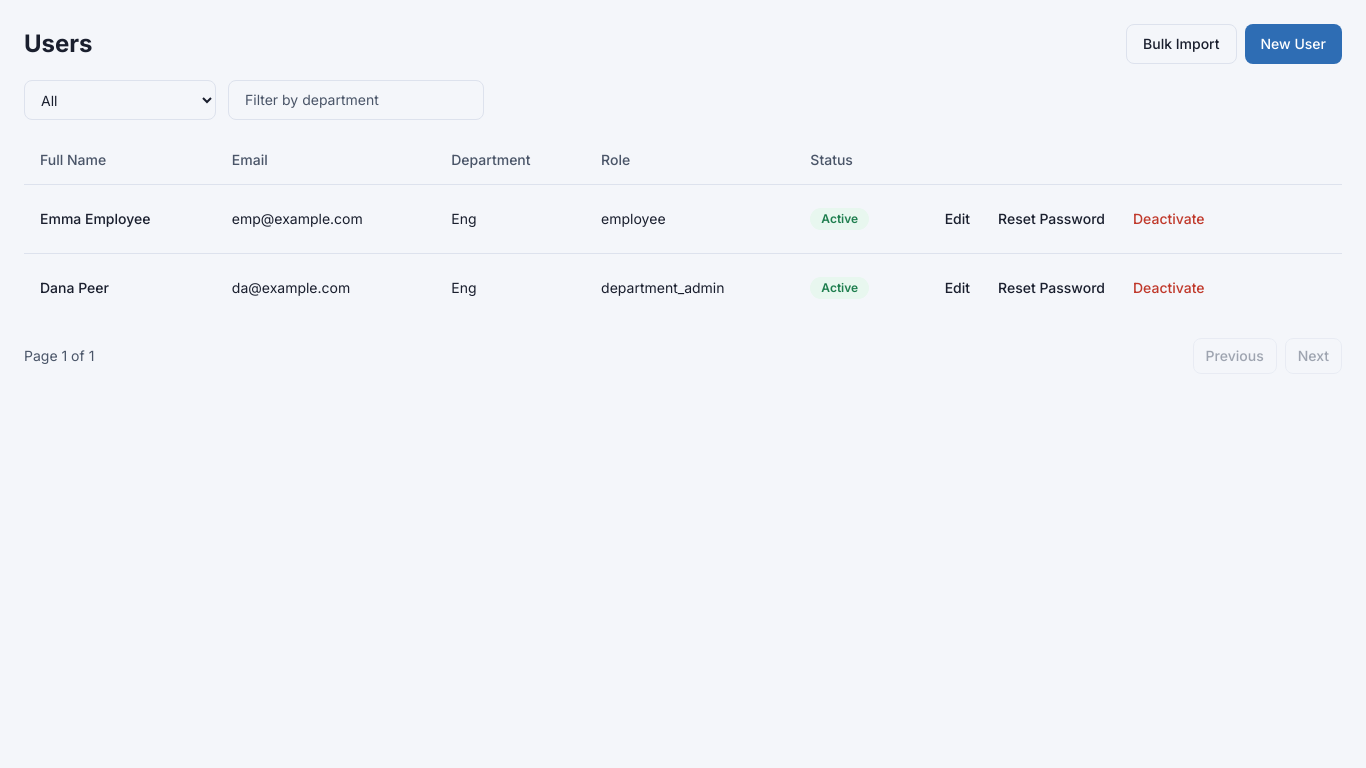
Test case: UsersListPage role dropdown (department_admin) › edit drawer for a peer department_admin shows the role read-only
Expected: the text "Dana Peer" is shown, [24,253,216,322]
Click the button "Edit" in the row of "Dana Peer" at [957, 288], box [933,270,982,306]
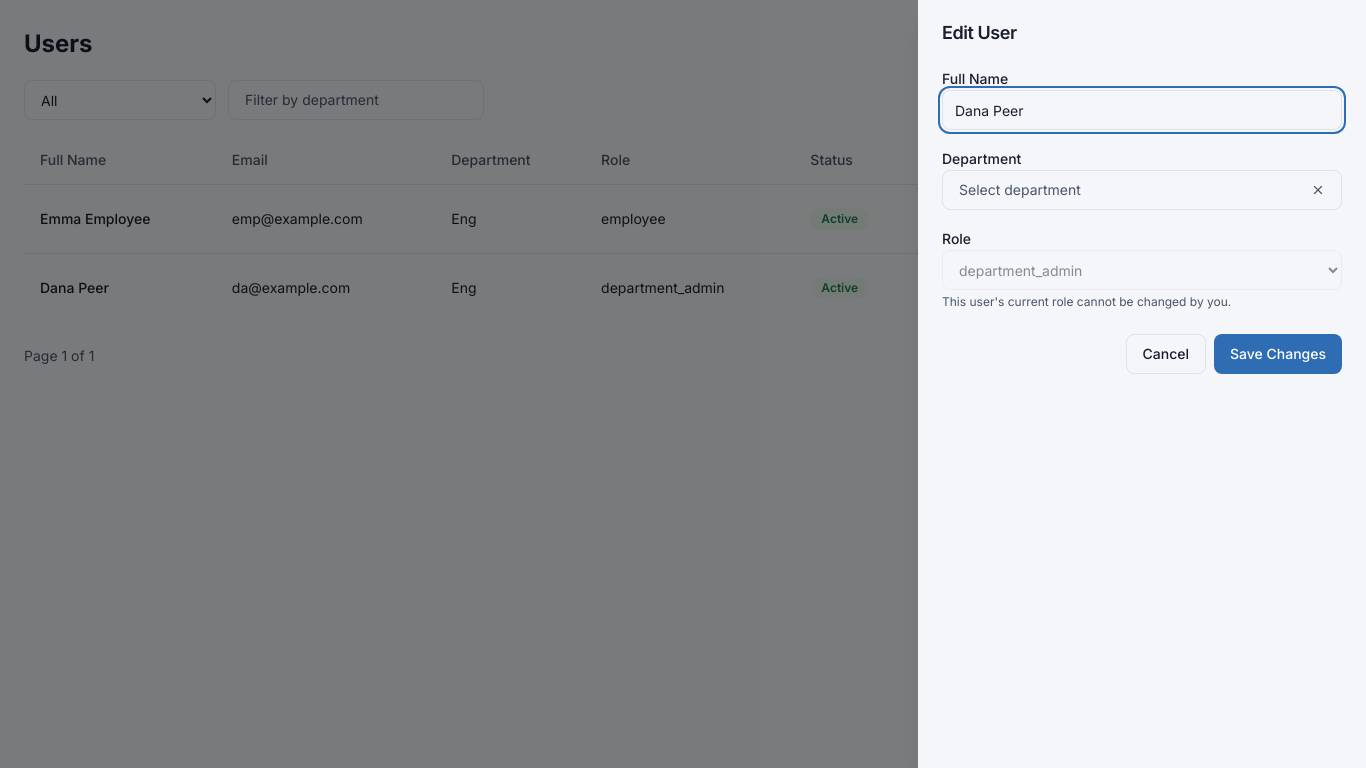
Result: the dropdown named "department_admin" is disabled at [942,250,1342,290]
Result: the dropdown named "department_admin" shows "department_admin" at [942,250,1342,290]
